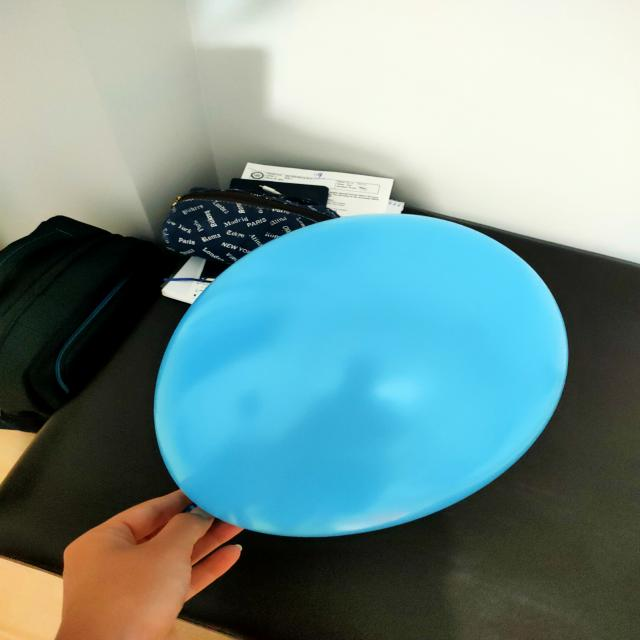blue: (156, 215, 569, 539)
